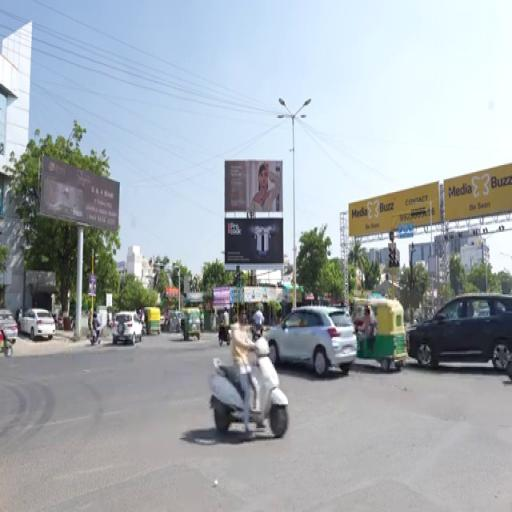Car: (408, 293, 511, 371), (268, 306, 357, 376), (20, 309, 55, 341), (112, 312, 143, 345), (0, 309, 18, 342)
